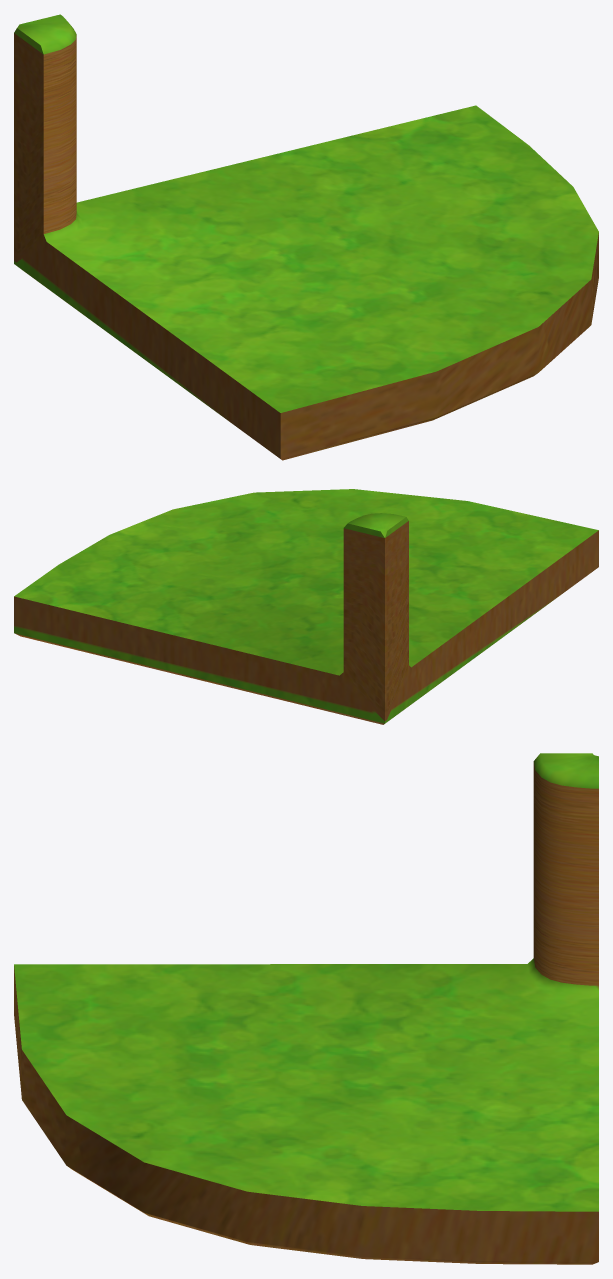
File: CornerPostNoWall.fbx
3 views of the same model, one above another, from view 1: azimuth 30°, elevation 25°; view 2: azimuth 150°, elevation 25°; view 3: azimuth 270°, elevation 25° (orthographic). The views are drawn at different scales.
Parts seen in each view (by area): view 1: CornerPostNoWall; view 2: CornerPostNoWall; view 3: CornerPostNoWall.
Part boxes in pixels (bbox=[...]): CornerPostNoWall: bbox=[14, 14, 598, 460]; CornerPostNoWall: bbox=[14, 489, 598, 724]; CornerPostNoWall: bbox=[14, 753, 598, 1264].
Bounding box in the file's own units: 449 × 449 × 226.
